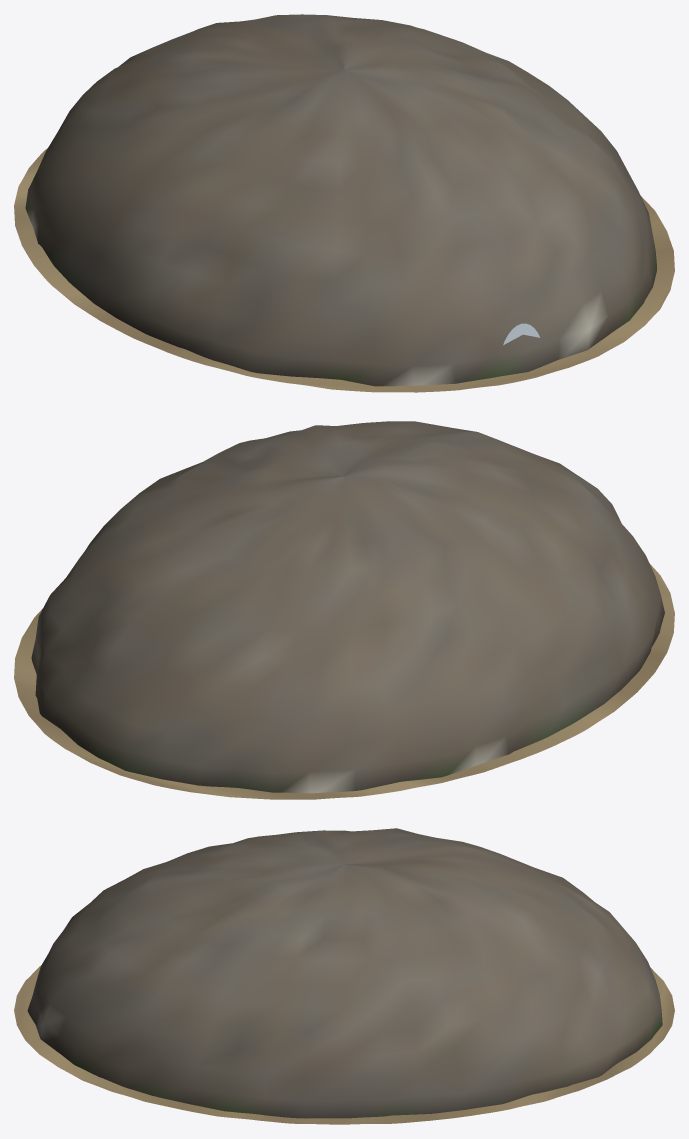
File: SeaCaveInside.glb
3 renders of one model, top to bottom at view 1: azimuth 30°, elevation 25°; view 2: azimuth 150°, elevation 25°; view 3: azimuth 270°, elevation 25°, orthographic. The views are drawn at different scales.
Visible parts, largest first — view 1: Dome, Floor; view 2: Dome, Floor; view 3: Dome, Floor.
Boxes of the visible parts, x1=… form: Dome: x1=25, y1=14, x2=656, y2=386; Floor: x1=14, y1=148, x2=674, y2=392; Dome: x1=31, y1=421, x2=664, y2=793; Floor: x1=14, y1=563, x2=674, y2=799; Dome: x1=27, y1=828, x2=662, y2=1118; Floor: x1=14, y1=966, x2=674, y2=1124.
Bounding box in the file's own units: 7.2 × 2.31 × 8.8.
